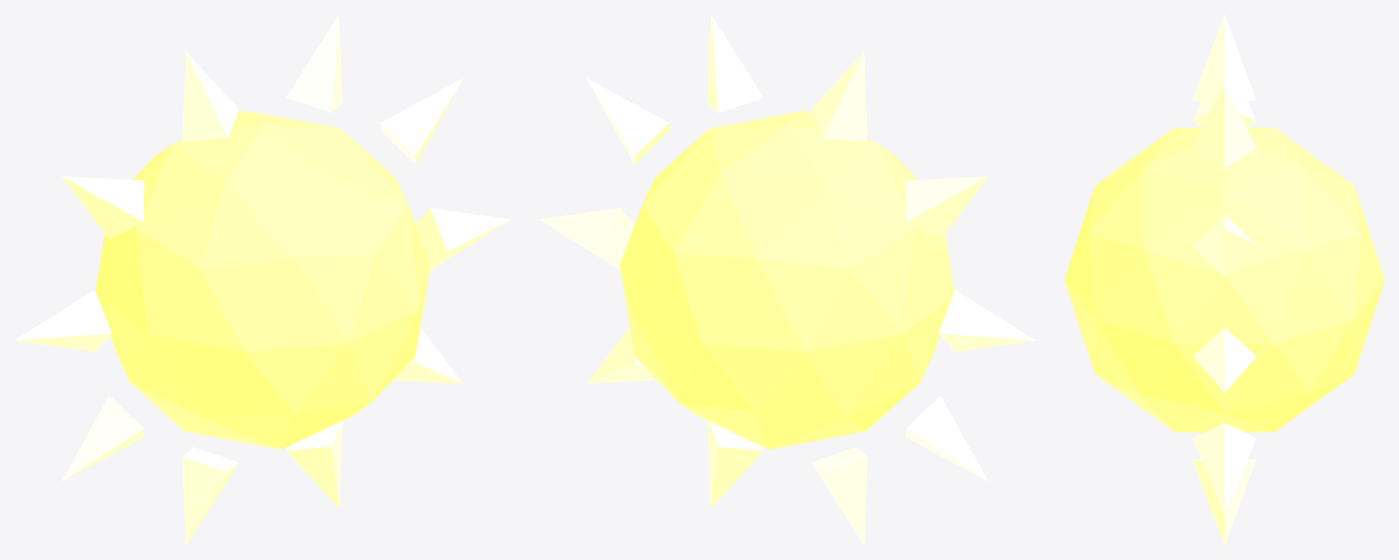
The model's file is sun.glb.
3 views of the same model, side by side, from view 1: azimuth 30°, elevation 25°; view 2: azimuth 150°, elevation 25°; view 3: azimuth 270°, elevation 25° (orthographic). The views are drawn at different scales.
Parts seen in each view (by area): view 1: SunCore, SunRay_04, SunRay_03, SunRay_05, SunRay_00, SunRay_02, SunRay_07, SunRay_01, SunRay_06, SunRay_08, SunRay_09; view 2: SunCore, SunRay_04, SunRay_03, SunRay_05, SunRay_00, SunRay_02, SunRay_07, SunRay_01, SunRay_06, SunRay_08, SunRay_09; view 3: SunCore, SunRay_09, SunRay_02, SunRay_03, SunRay_00, SunRay_01, SunRay_08, SunRay_04.
Boxes of the visible parts, <box> form: SunCore: <box>95,110,430,449</box>; SunRay_04: <box>62,176,144,238</box>; SunRay_03: <box>182,52,238,141</box>; SunRay_05: <box>14,290,111,351</box>; SunRay_00: <box>415,208,510,269</box>; SunRay_02: <box>286,14,342,112</box>; SunRay_07: <box>182,447,238,545</box>; SunRay_01: <box>380,78,462,164</box>; SunRay_06: <box>62,395,144,481</box>; SunRay_08: <box>286,421,342,507</box>; SunRay_09: <box>393,327,462,383</box>; SunCore: <box>619,110,954,449</box>; SunRay_04: <box>905,176,987,238</box>; SunRay_03: <box>811,52,867,141</box>; SunRay_05: <box>938,290,1035,351</box>; SunRay_00: <box>539,208,634,269</box>; SunRay_02: <box>707,14,763,112</box>; SunRay_07: <box>811,447,867,545</box>; SunRay_01: <box>587,78,669,164</box>; SunRay_06: <box>905,395,987,481</box>; SunRay_08: <box>707,421,763,507</box>; SunRay_09: <box>587,327,656,383</box>; SunCore: <box>1064,127,1384,432</box>; SunRay_09: <box>1192,423,1256,513</box>; SunRay_02: <box>1192,84,1256,169</box>; SunRay_03: <box>1192,14,1256,102</box>; SunRay_00: <box>1192,327,1256,392</box>; SunRay_01: <box>1192,214,1256,276</box>; SunRay_08: <box>1192,458,1256,545</box>; SunRay_04: <box>1192,101,1256,126</box>.
Bounding box in the file's own units: 2.34 × 2.23 × 1.4.
